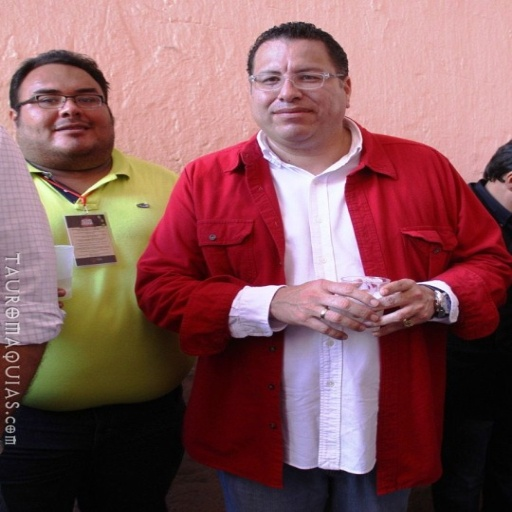hand: (264, 269, 400, 336), (353, 278, 435, 338), (54, 285, 67, 311)
